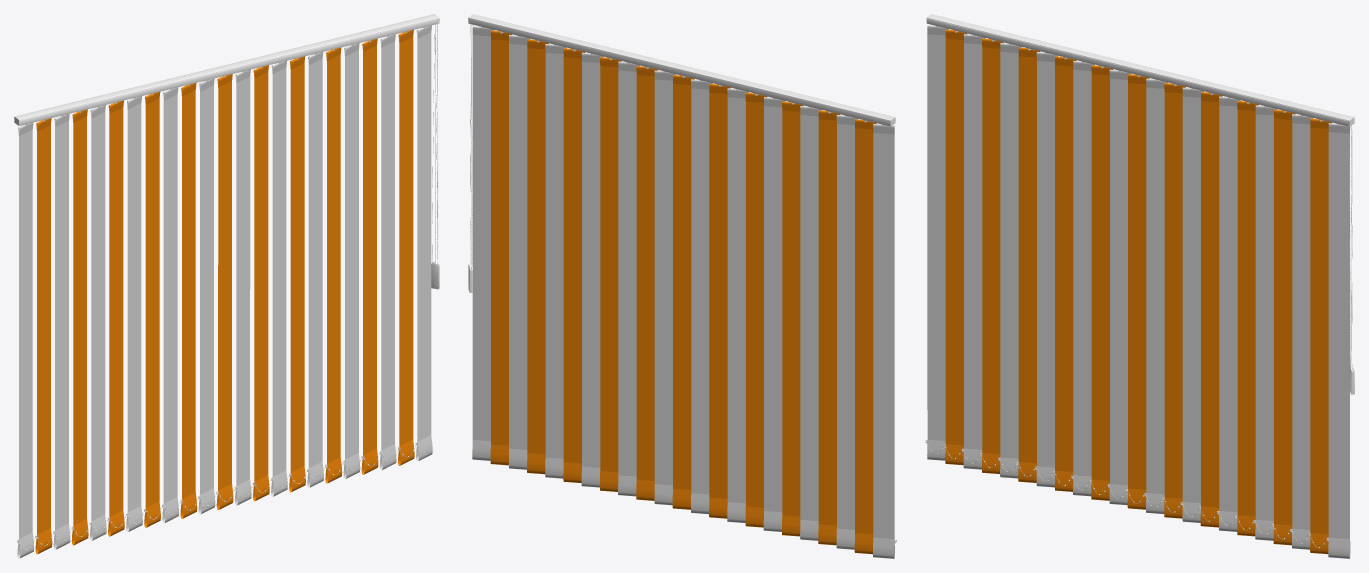
3 renders of one model, left to right at view 1: azimuth 30°, elevation 25°; view 2: azimuth 150°, elevation 25°; view 3: azimuth 330°, elevation 25°, orthographic.
Visible parts, largest first — view 1: Plane.004, Plane.023, Plane.007, Plane.016, Plane.005, Plane.014, Plane.008, Plane.017, Plane.006, Plane.022, Plane.015, Plane.013 (+12 smaller); view 2: Plane.009, Plane.010, Plane.014, Plane.015, Plane.003, Plane.013, Plane.019, Plane.004, Plane.008, Plane.018, Plane.020, Plane.005 (+12 smaller); view 3: Plane.023, Plane.014, Plane.009, Plane.004, Plane.010, Plane.018, Plane.019, Plane.005, Plane.022, Plane.001, Plane.008, Plane.017 (+12 smaller).
Part boxes in pixels (x1,y1,x2,y2): Plane.004: [90, 105, 106, 540]; Plane.023: [416, 25, 432, 461]; Plane.007: [144, 92, 160, 527]; Plane.016: [289, 56, 305, 492]; Plane.005: [108, 100, 124, 536]; Plane.014: [253, 65, 269, 501]; Plane.008: [162, 87, 178, 523]; Plane.017: [307, 52, 323, 487]; Plane.006: [126, 96, 142, 532]; Plane.022: [398, 30, 414, 465]; Plane.015: [271, 61, 287, 496]; Plane.013: [235, 69, 251, 505]; Plane.009: [873, 123, 894, 558]; Plane.010: [709, 83, 730, 518]; Plane.014: [636, 66, 657, 500]; Plane.015: [618, 61, 639, 496]; Plane.003: [818, 110, 840, 545]; Plane.013: [654, 70, 676, 505]; Plane.019: [545, 44, 566, 478]; Plane.004: [800, 106, 821, 540]; Plane.008: [727, 88, 748, 523]; Plane.018: [563, 48, 585, 483]; Plane.020: [527, 39, 548, 474]; Plane.005: [782, 101, 803, 536]; Plane.023: [1328, 123, 1350, 558]; Plane.014: [1164, 83, 1185, 518]; Plane.009: [927, 25, 948, 460]; Plane.004: [1000, 43, 1021, 478]; Plane.010: [1091, 65, 1113, 500]; Plane.018: [1237, 101, 1258, 536]; Plane.019: [1255, 105, 1277, 540]; Plane.005: [1018, 47, 1040, 482]; Plane.022: [1310, 118, 1331, 554]; Plane.001: [945, 29, 967, 465]; Plane.008: [1073, 60, 1094, 496]; Plane.017: [1219, 96, 1240, 531].
Size of the model in its own units: 2.02 by 2 by 0.0493.
4 materials, 1 textured.
